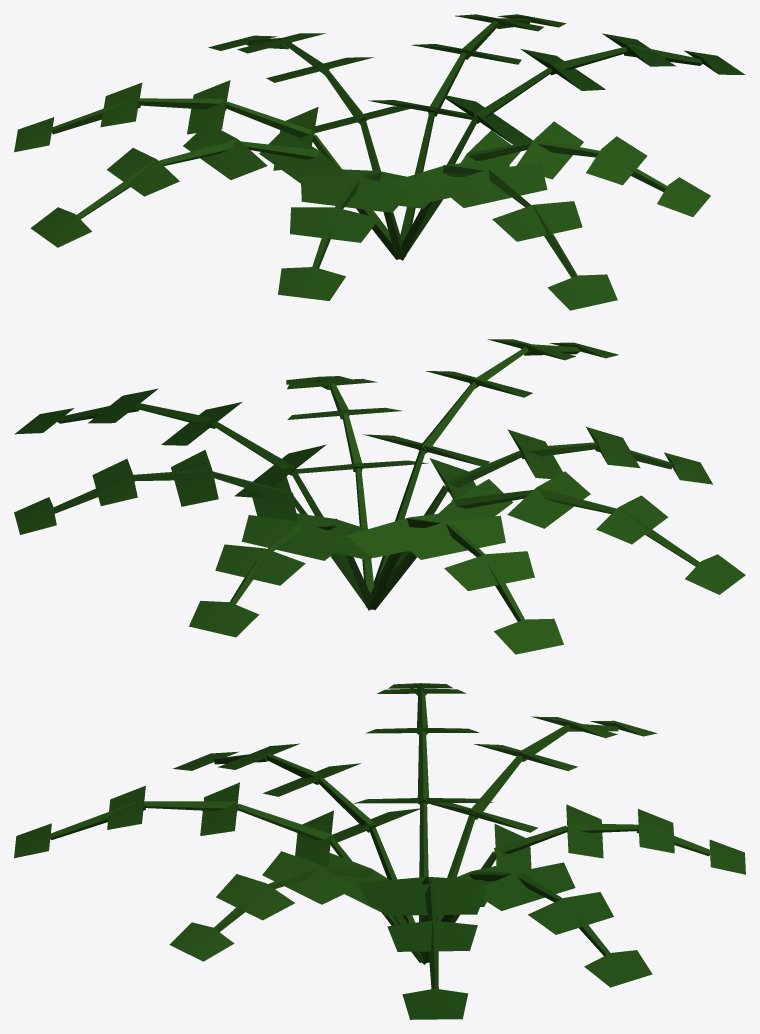
The model's file is ground_fern_2.glb.
3 views of the same model, one above another, from view 1: azimuth 30°, elevation 25°; view 2: azimuth 150°, elevation 25°; view 3: azimuth 270°, elevation 25° (orthographic). The views are drawn at different scales.
Visible parts, largest first — view 1: leaf; view 2: leaf; view 3: leaf.
Boxes of the visible parts, x1=… form: leaf: x1=14, y1=14, x2=745, y2=310; leaf: x1=14, y1=339, x2=745, y2=654; leaf: x1=14, y1=683, x2=745, y2=1019.
Size of the model in its own units: 2.67 by 0.5937 by 2.49.
